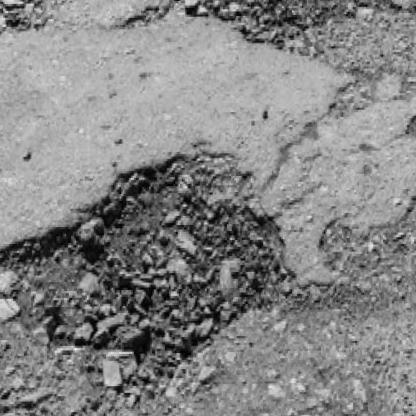pothole: (4, 156, 280, 361), (174, 0, 395, 80), (0, 0, 53, 46)
